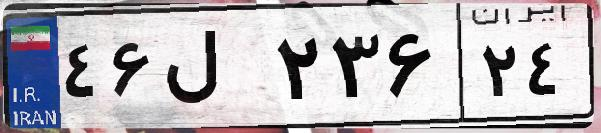2: (270, 28, 330, 110), (475, 38, 525, 113)
3: (330, 28, 385, 110)
4: (57, 26, 110, 100), (525, 38, 570, 115)
6: (385, 28, 445, 110), (110, 28, 158, 98)
ل: (158, 20, 270, 120)
